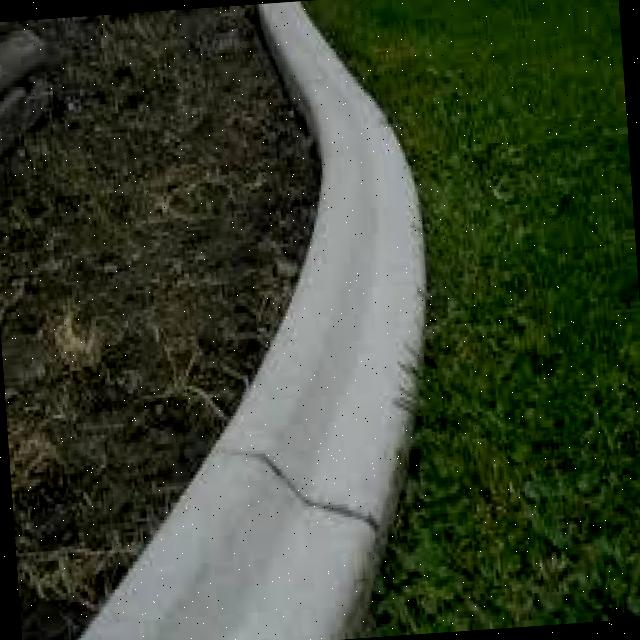curb: (216, 7, 427, 533), (74, 451, 388, 640)
